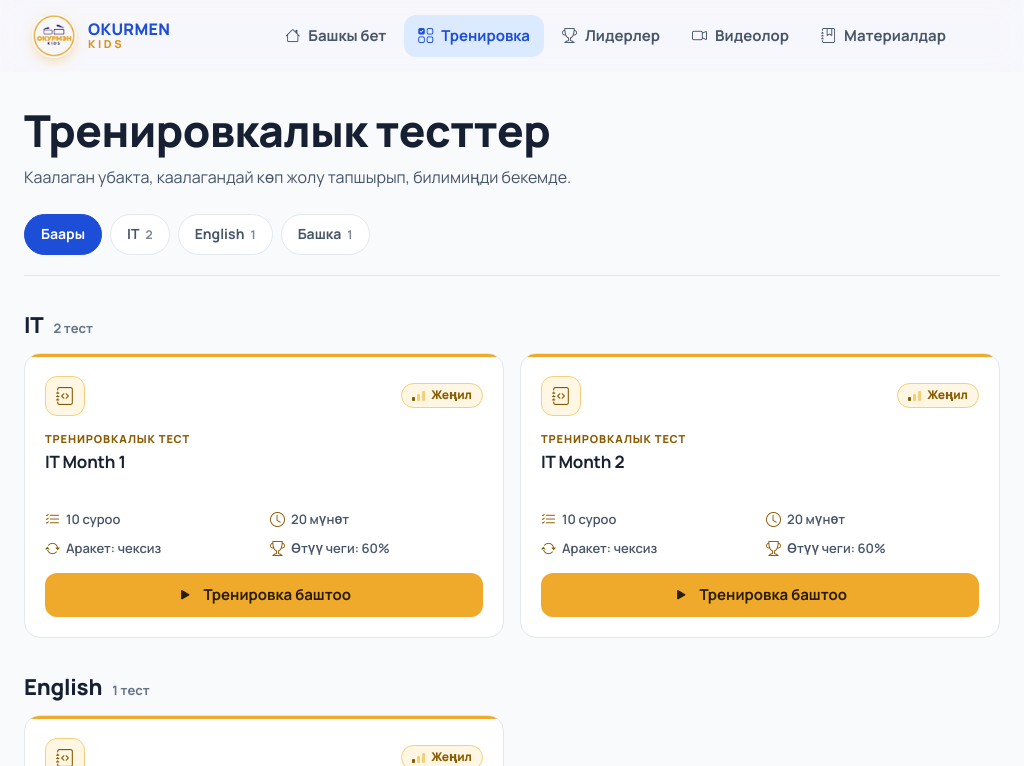
Test: training list by category › renders a section per category with compact cards and filters by category
The image size is (1024, 766).
Expected: the headings read "IT", "IT Month 1", "IT Month 2", in this order, top-left (24, 312), bottom-right (44, 338); top-left (45, 450), bottom-right (126, 473); top-left (541, 450), bottom-right (624, 473)
Expected: the text "2 тест" is shown, top-left (54, 318), bottom-right (93, 339)
What coordinates should you click on to do the following:
click the button "English1"
I would click on:
 (225, 235)
Its box is top-left (178, 214), bottom-right (273, 255).
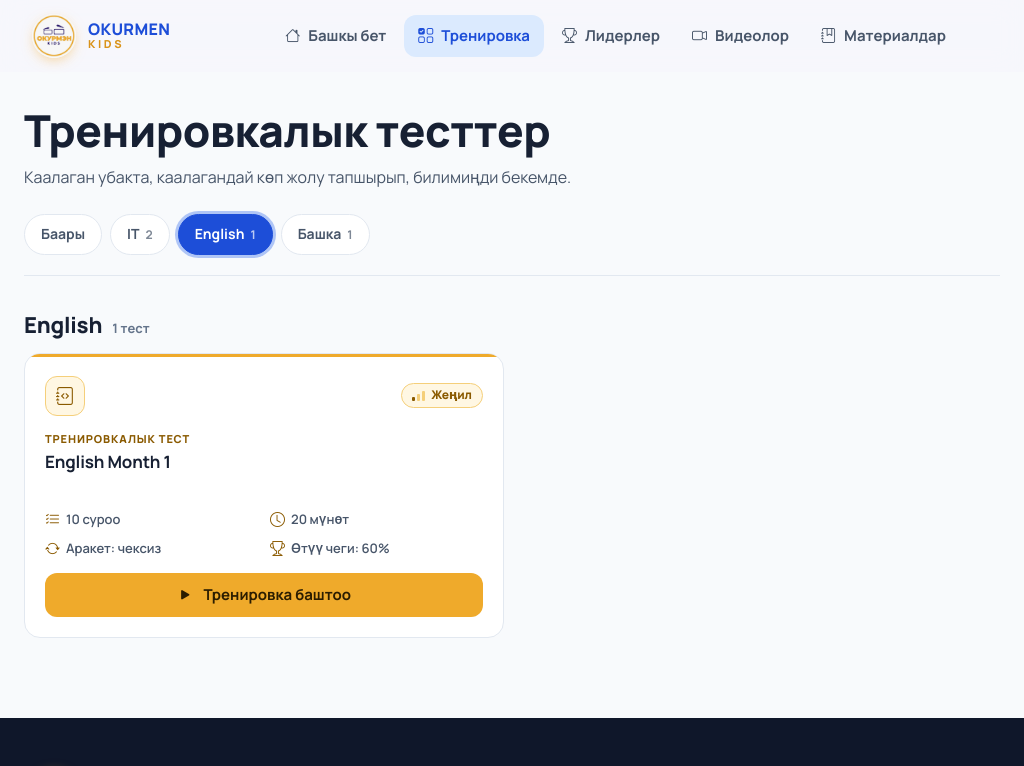
Expected: the element "English" is shown, top-left (24, 310), bottom-right (504, 638)
What coordinates should you click on to do the following:
click the button "Баары"
I would click on:
 (63, 235)
Its box is top-left (24, 214), bottom-right (102, 255).
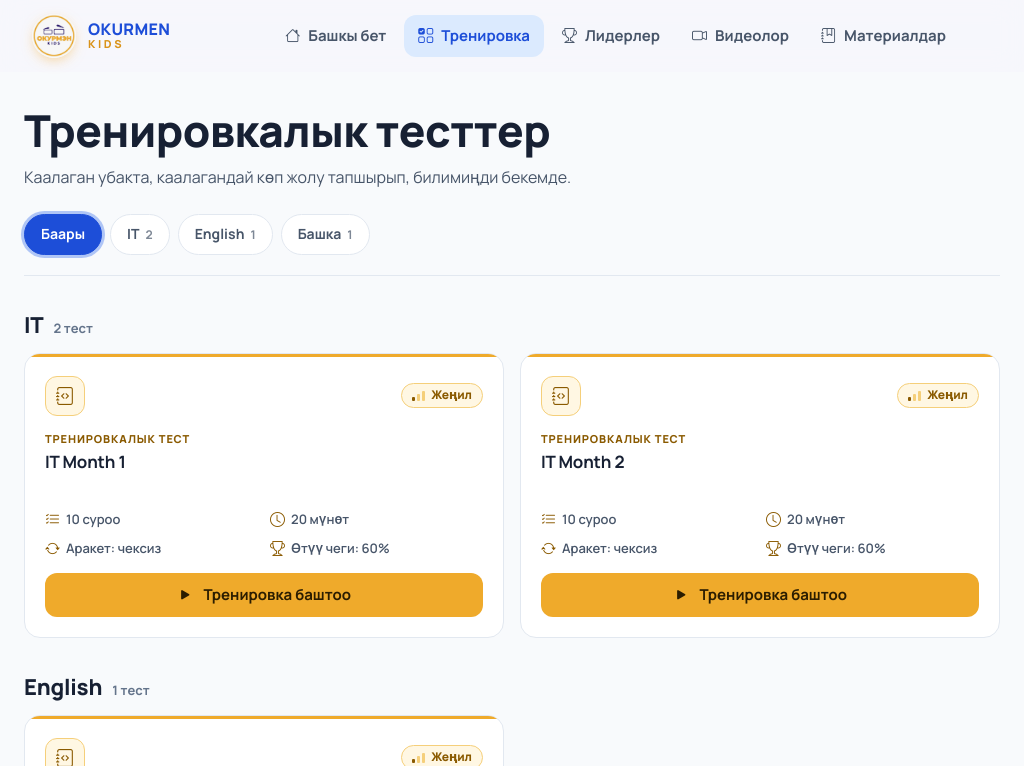
Expected: the element "IT" is shown, top-left (24, 312), bottom-right (1000, 638)
